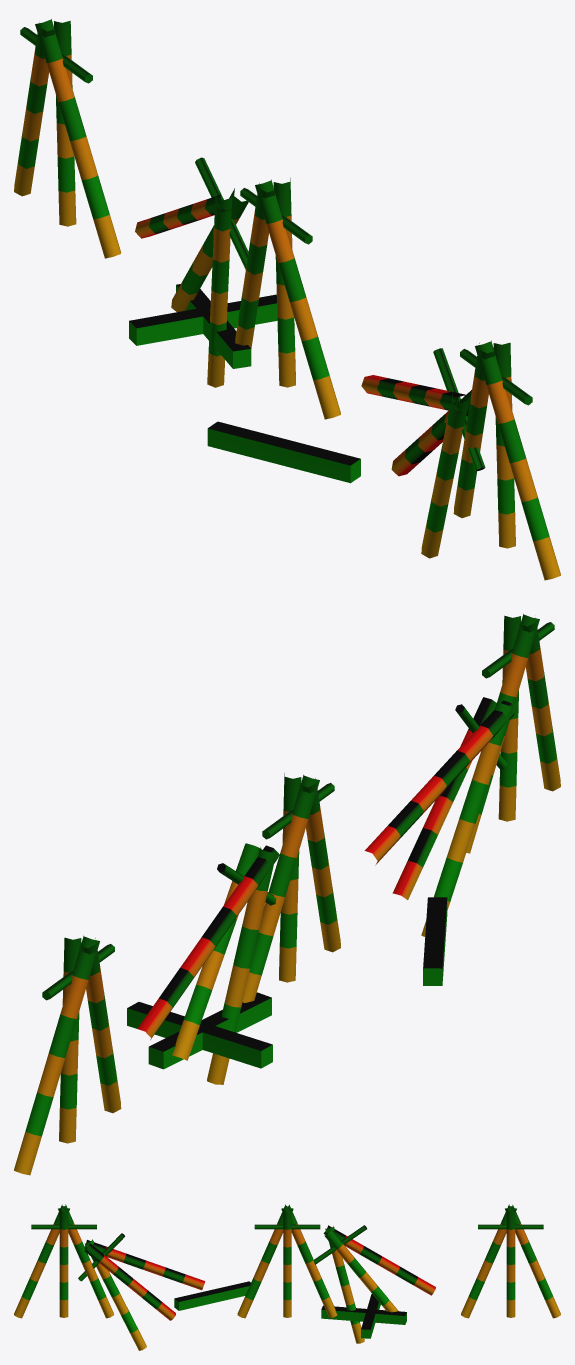
The model's file is tripodbarricade_damaged.glb.
3 views of the same model, one above another, from view 1: azimuth 30°, elevation 25°; view 2: azimuth 150°, elevation 25°; view 3: azimuth 270°, elevation 25° (orthographic). The views are drawn at different scales.
Parts seen in each view (by area): view 1: lod0; view 2: lod0; view 3: lod0.
Part boxes in pixels (bbox=[...]): lod0: bbox=[14, 19, 560, 580]; lod0: bbox=[14, 614, 560, 1175]; lod0: bbox=[14, 1204, 560, 1350].
Size of what is drawn, in the model's own units: 1.75 by 2.35 by 8.32.
